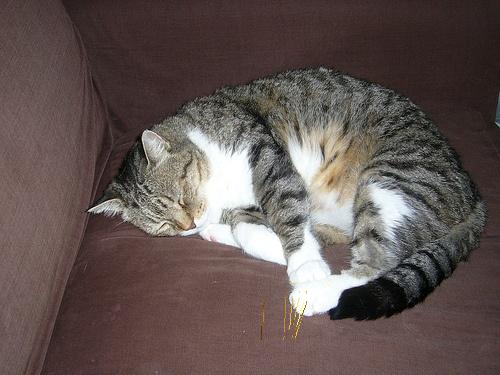tampered: (262, 284, 307, 340)
